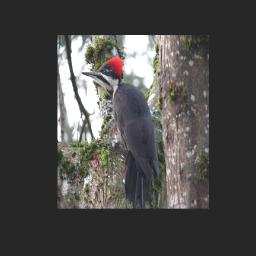Woodpecker: (80, 55, 164, 204)
